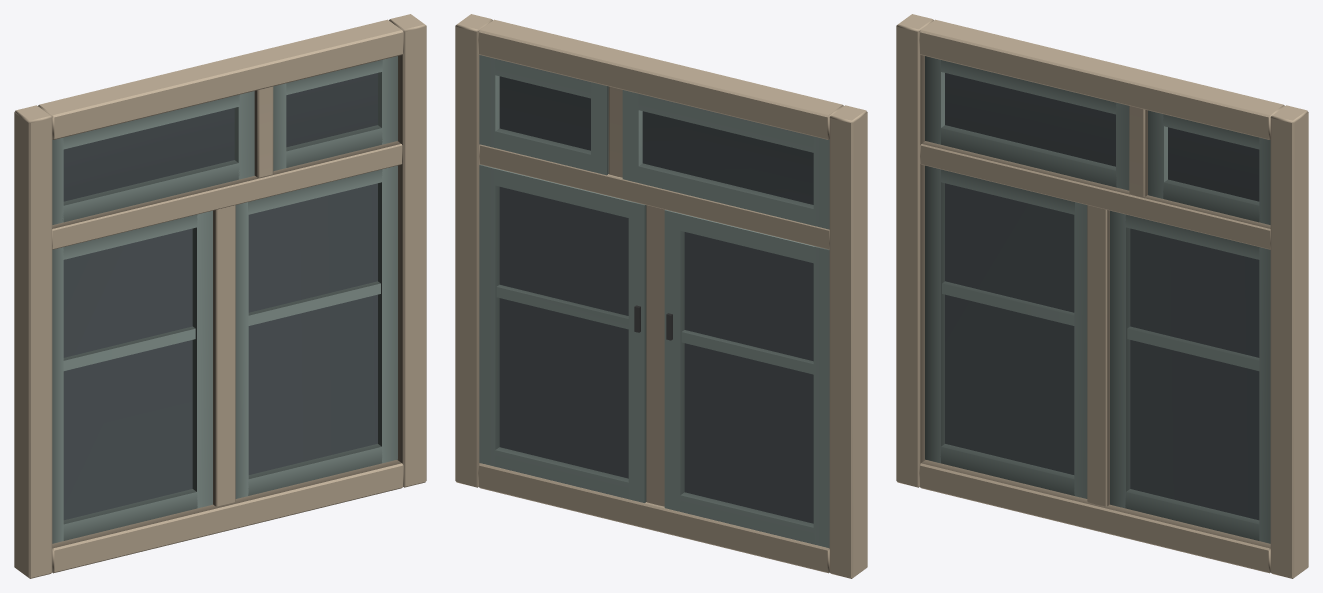
The model's file is window_sash.glb.
3 renders of one model, left to right at view 1: azimuth 30°, elevation 25°; view 2: azimuth 150°, elevation 25°; view 3: azimuth 330°, elevation 25°, orthographic.
Parts seen in each view (by area): view 1: static; view 2: static; view 3: static.
Part boxes in pixels (x1,y1,x2,y2): static: (14, 14, 426, 578); static: (455, 14, 867, 578); static: (896, 14, 1308, 578).
Bounding box in the file's own units: 1 × 1.1 × 0.073.
